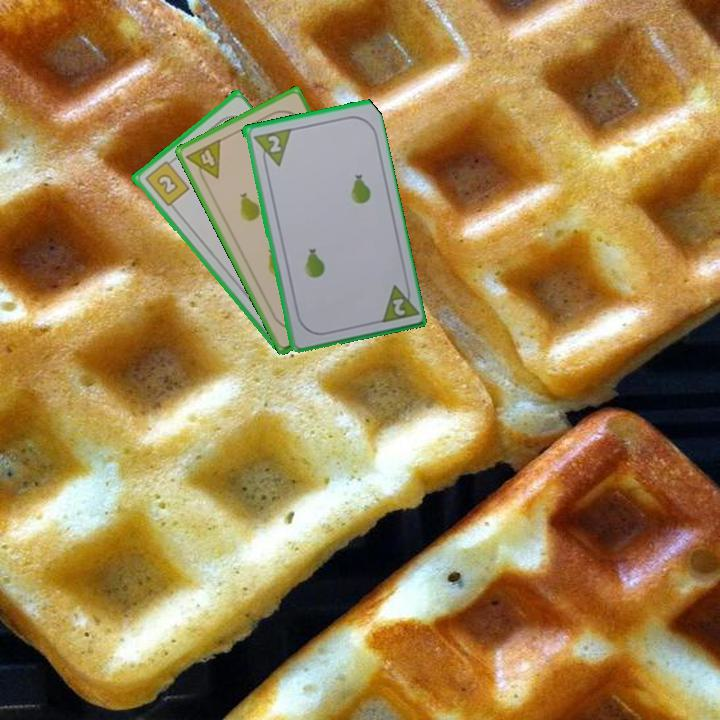2b: (141, 156, 192, 209)
2p: (249, 125, 293, 171), (375, 279, 419, 325)
4p: (182, 135, 224, 187)
